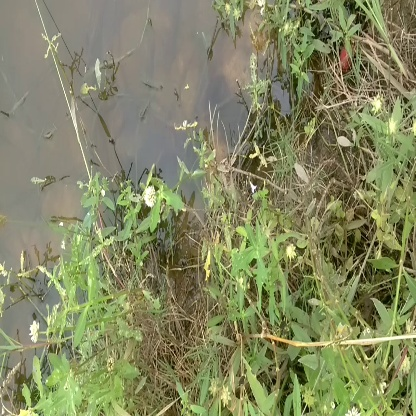grass: (48, 212, 142, 338)
